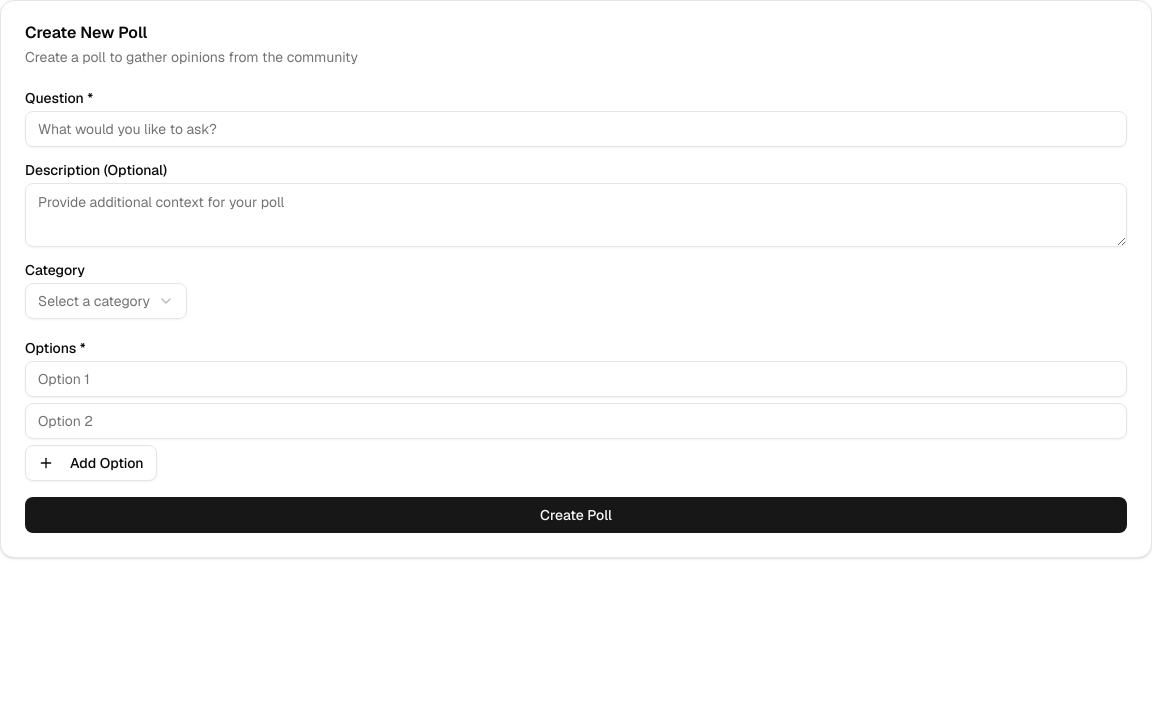
it: CreatePollForm › Happy Path › should add and remove options correctly
Check: the number of fields with placeholder "Option 1" is 2, box left=25, top=361, right=1127, bottom=397; left=25, top=403, right=1127, bottom=439
// Add option
Click the button "Add Option" at (91, 463), box left=25, top=445, right=157, bottom=481
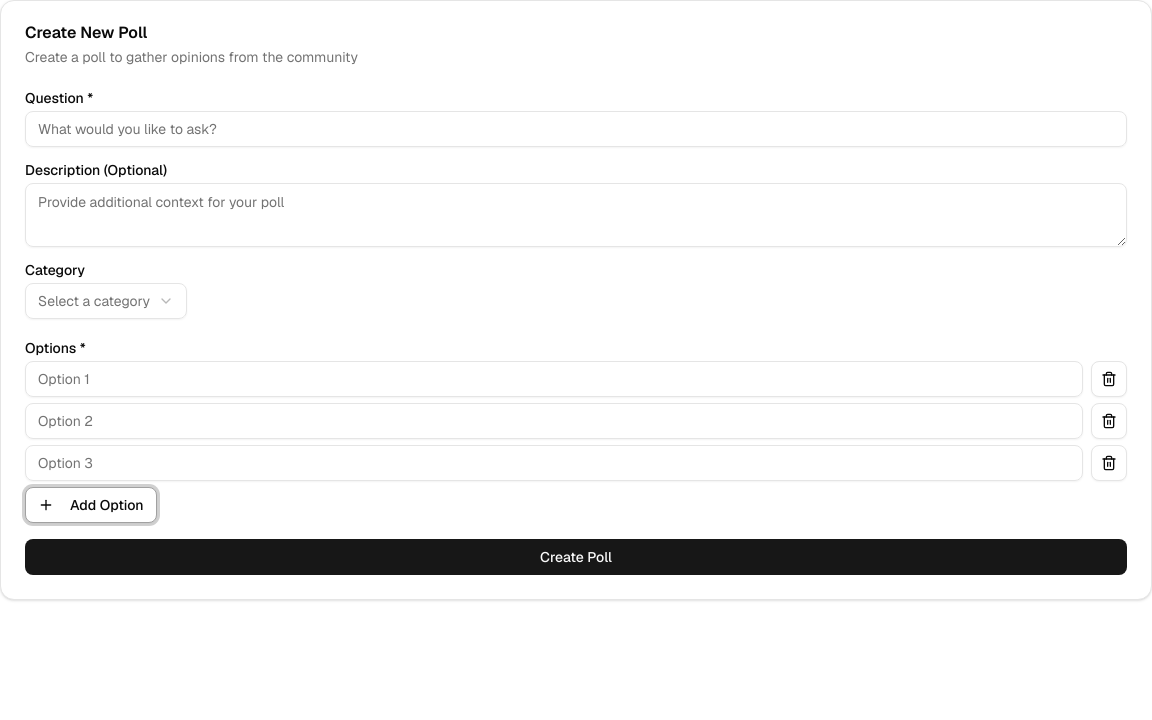
Check: the number of fields with placeholder "Option 1" is 3, box left=25, top=361, right=1083, bottom=397; left=25, top=403, right=1083, bottom=439; left=25, top=445, right=1083, bottom=481
Check: the field with placeholder "Option 3" is shown, box left=25, top=445, right=1083, bottom=481
Click the 1st button at (1109, 379), box left=1091, top=361, right=1127, bottom=397
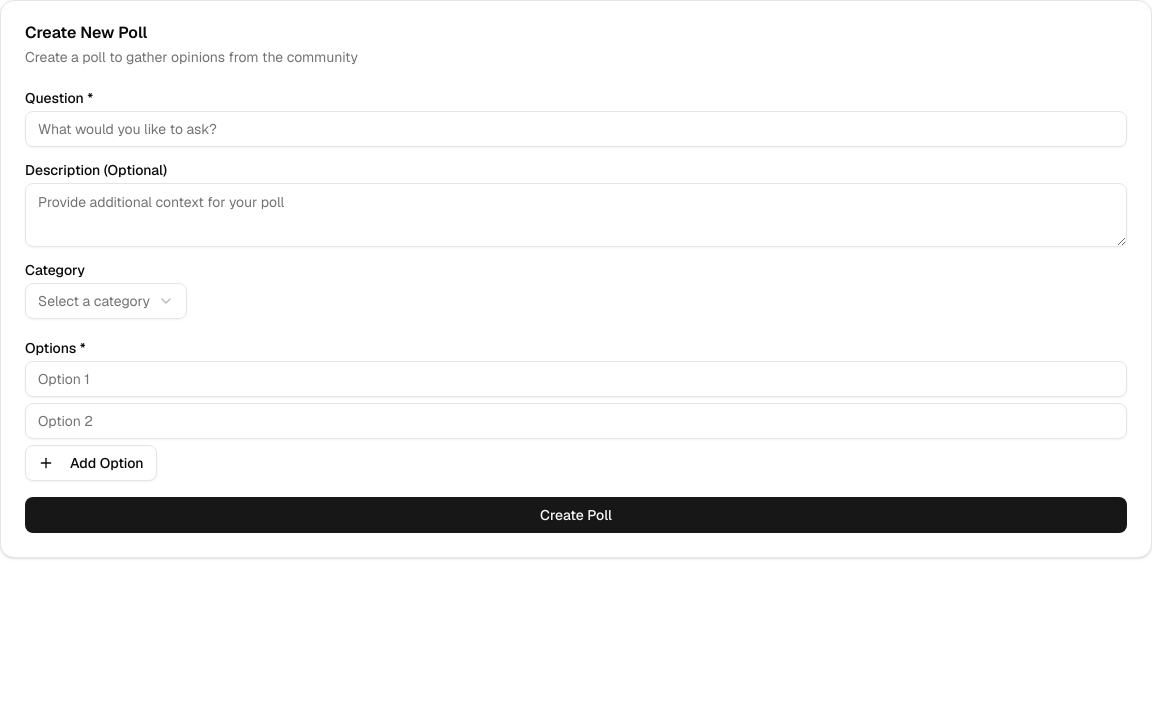
Check: the number of fields with placeholder "Option 1" is 2, box left=25, top=361, right=1127, bottom=397; left=25, top=403, right=1127, bottom=439
